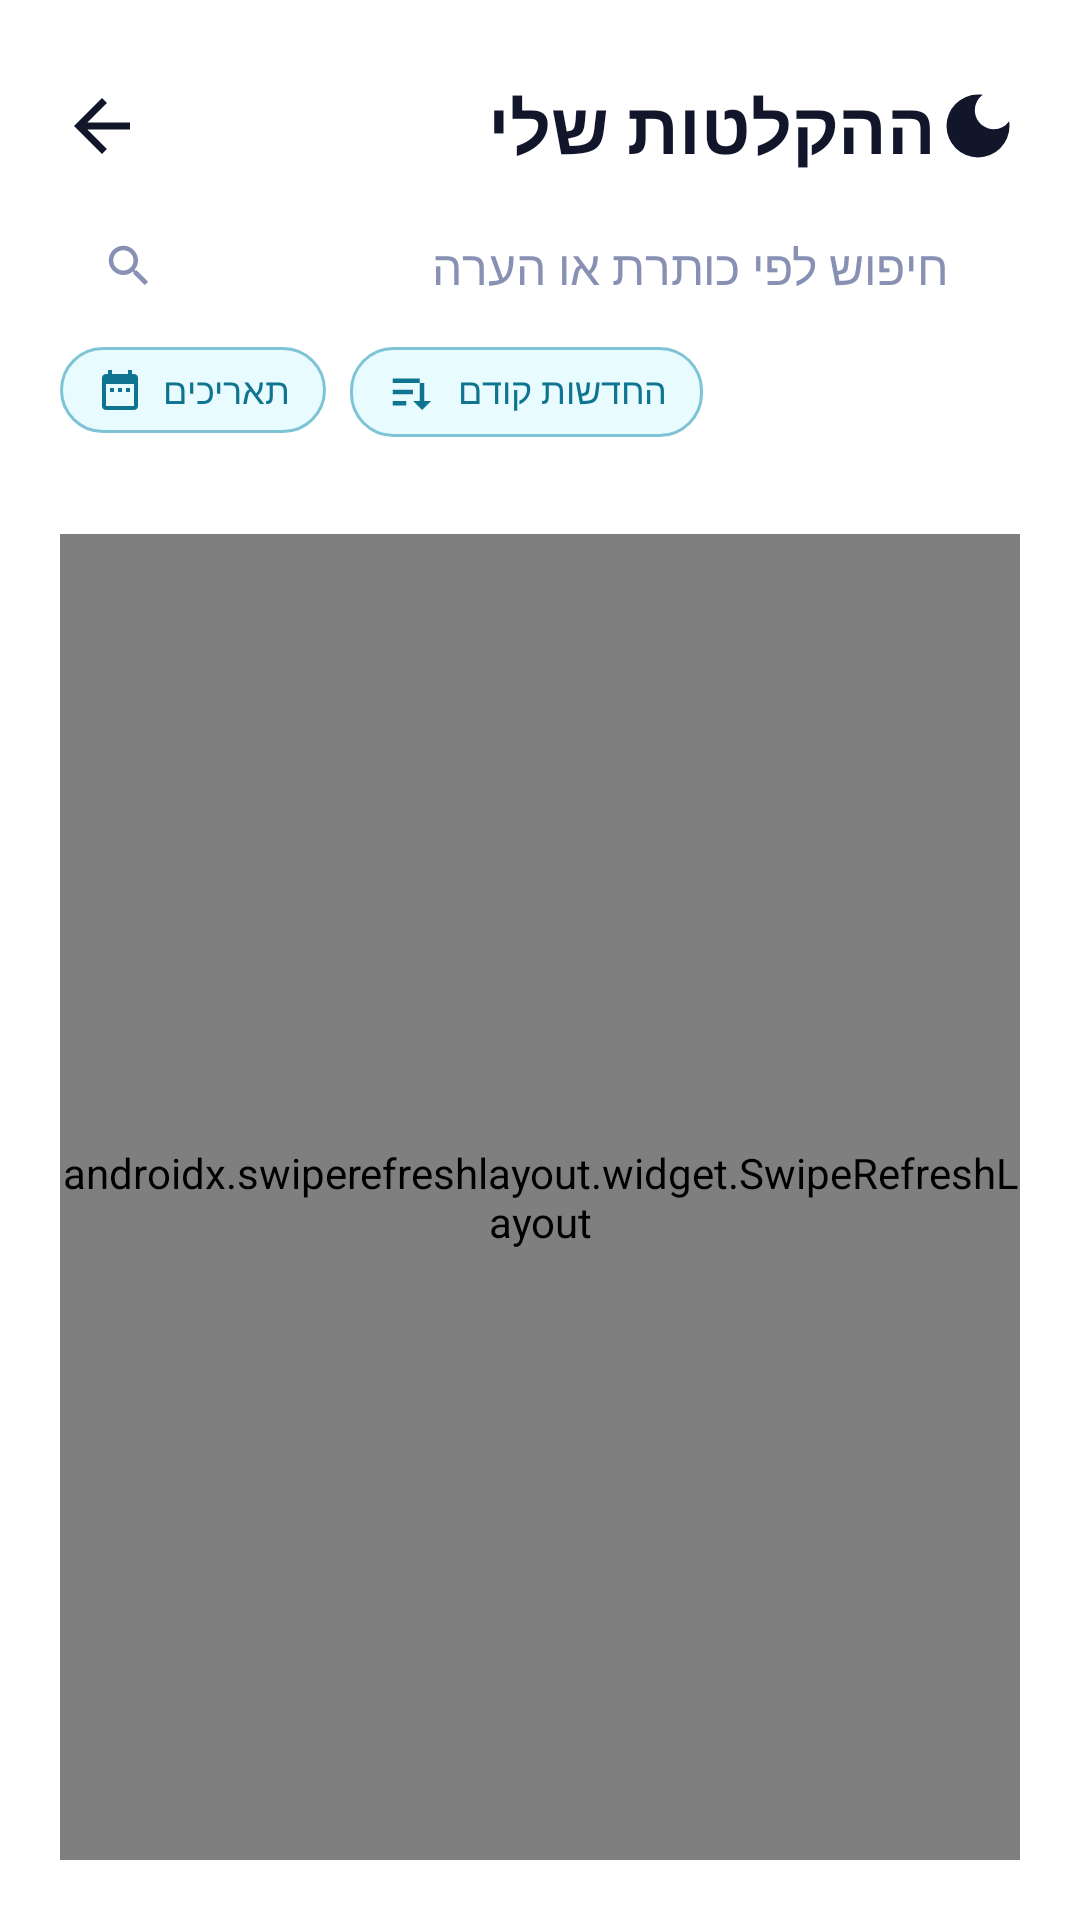

Screen size 1080x1920. Icon name, then its center in pixels as (x,y):
back: (102,126)
search: (128,265)
החלף מצב בהיר/כהה: (978,126)
